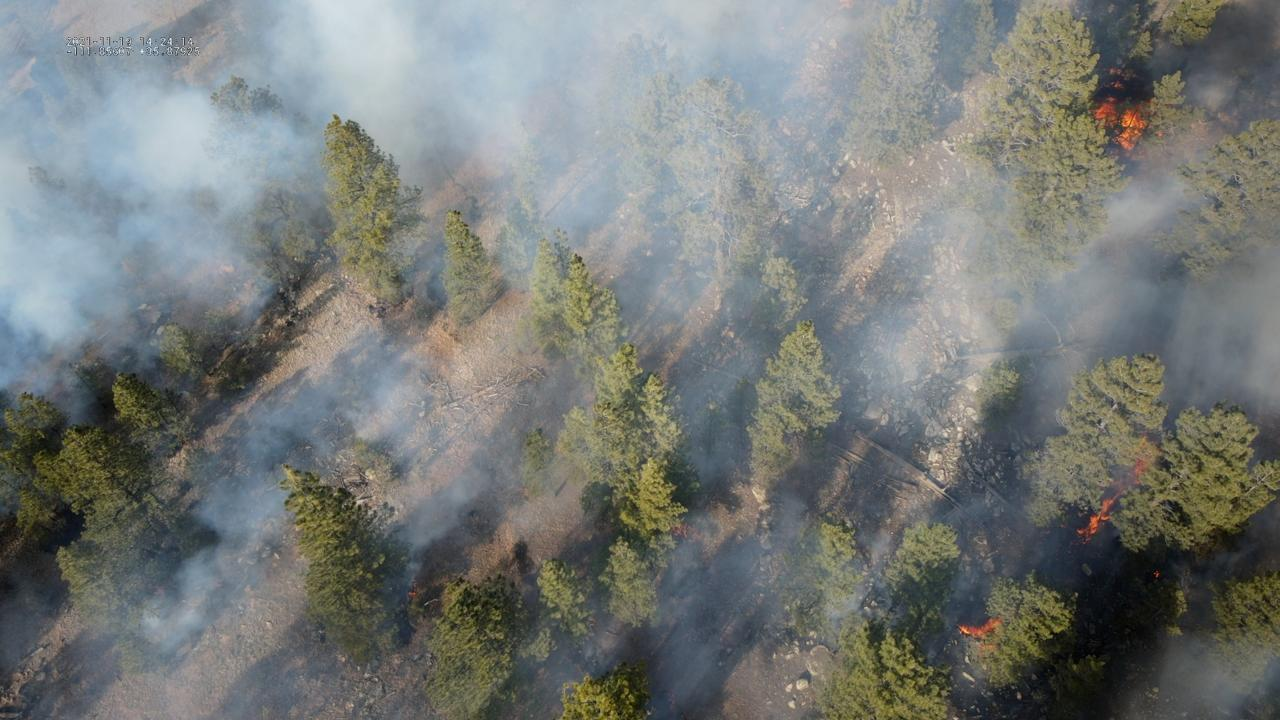fire: (1076, 457, 1151, 545), (1088, 95, 1155, 152), (957, 615, 1006, 641), (667, 520, 690, 537), (1108, 66, 1121, 75), (1110, 80, 1121, 89), (1155, 129, 1165, 138), (408, 590, 417, 598)
smoke: (0, 0, 1280, 720), (1158, 640, 1279, 720)
